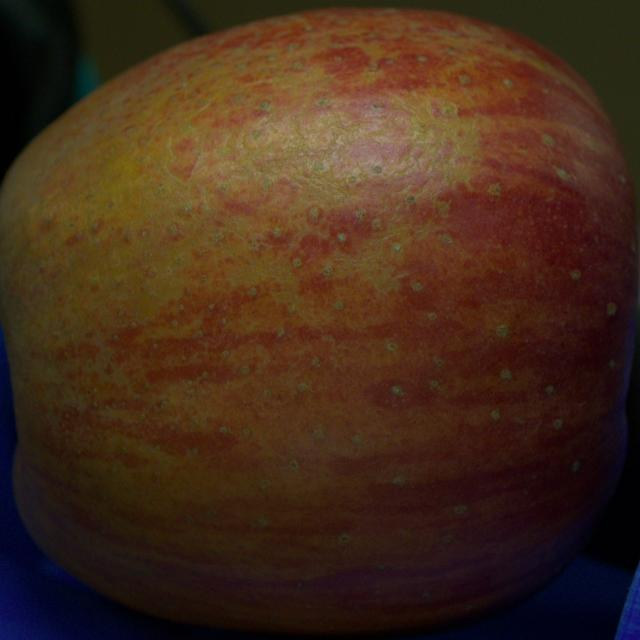apple: (0, 9, 639, 637)
